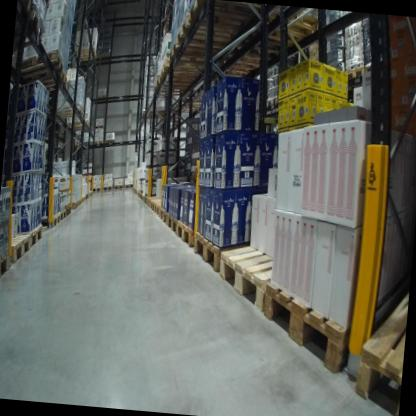pallet: (258, 268, 382, 387), (216, 218, 329, 324), (351, 259, 410, 416), (188, 229, 242, 280), (257, 5, 321, 45), (186, 0, 264, 31), (168, 35, 240, 67), (175, 16, 237, 52), (17, 42, 66, 87), (248, 28, 301, 64), (151, 69, 207, 103), (224, 52, 274, 81), (16, 7, 46, 55), (159, 56, 209, 82), (6, 230, 33, 270), (33, 68, 70, 94), (15, 223, 44, 255), (173, 218, 196, 251), (55, 102, 84, 123), (0, 247, 13, 287), (73, 47, 100, 66), (36, 210, 62, 229), (262, 93, 280, 114), (69, 117, 91, 134), (344, 65, 364, 83), (164, 213, 179, 234), (154, 199, 170, 216), (158, 204, 170, 224), (18, 0, 32, 17), (35, 0, 54, 12), (148, 193, 160, 208), (58, 206, 68, 222), (112, 183, 124, 194), (69, 200, 79, 213), (122, 182, 133, 193), (104, 137, 117, 146), (93, 138, 104, 148), (102, 185, 114, 194), (63, 205, 71, 217), (91, 184, 101, 192), (151, 199, 155, 210)
